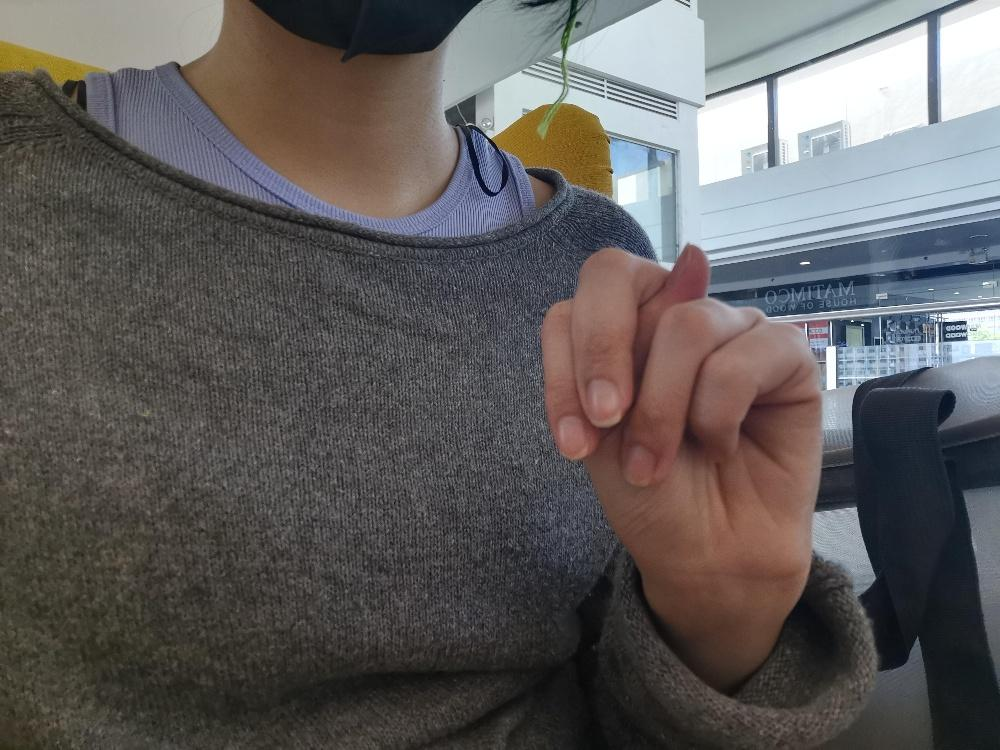n: (537, 238, 824, 584)
